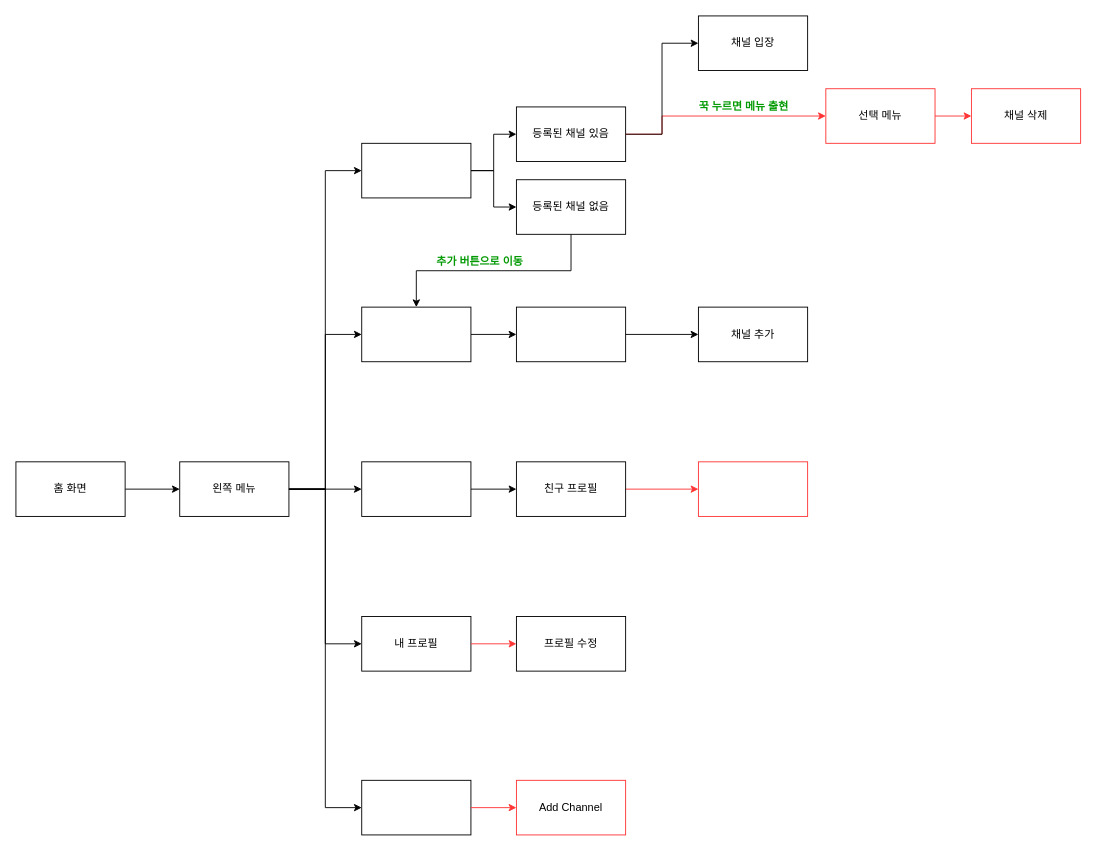
The diagram is 1097 pixels wide and 851 high, and some of its shapes have lost their labels. Here are the shapes that lost their labels. From the top down, the centre of each, then its label:
the point at 416,170: 등록된 채널 목록
the point at 416,334: 참가 할 수 있는 채널 목록
the point at 571,334: 채널 정보
the point at 416,488: 친구 목록
the point at 753,488: 삭제
the point at 416,807: 환경 설정
